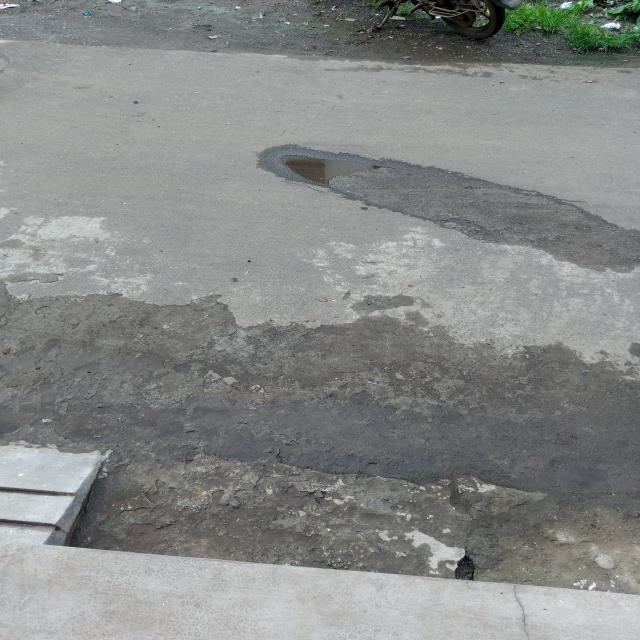potholes: (253, 140, 640, 276)
